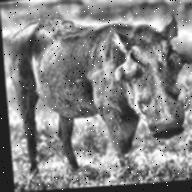boar: (17, 0, 192, 171)
